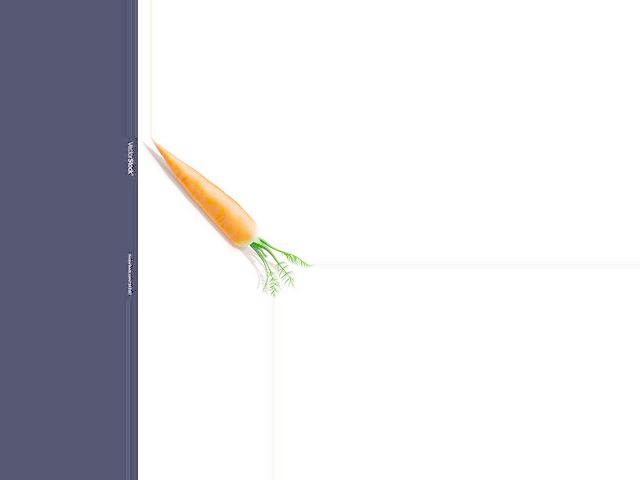carrot: (148, 140, 263, 250)
